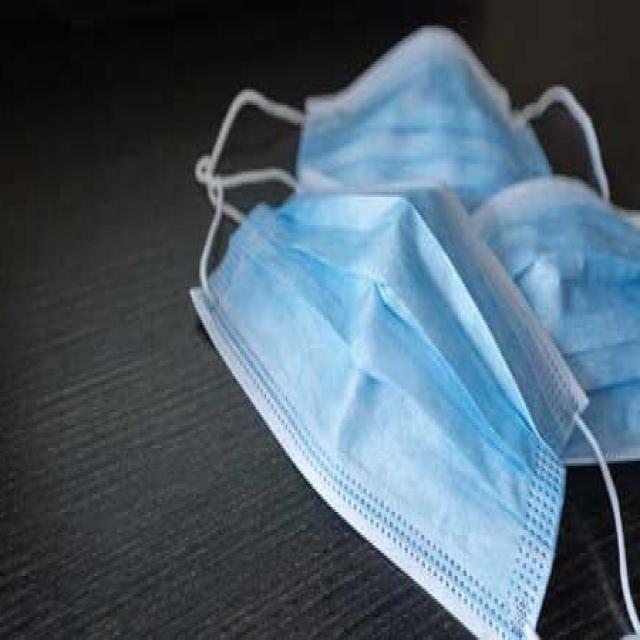face mask: (192, 46, 640, 640)
